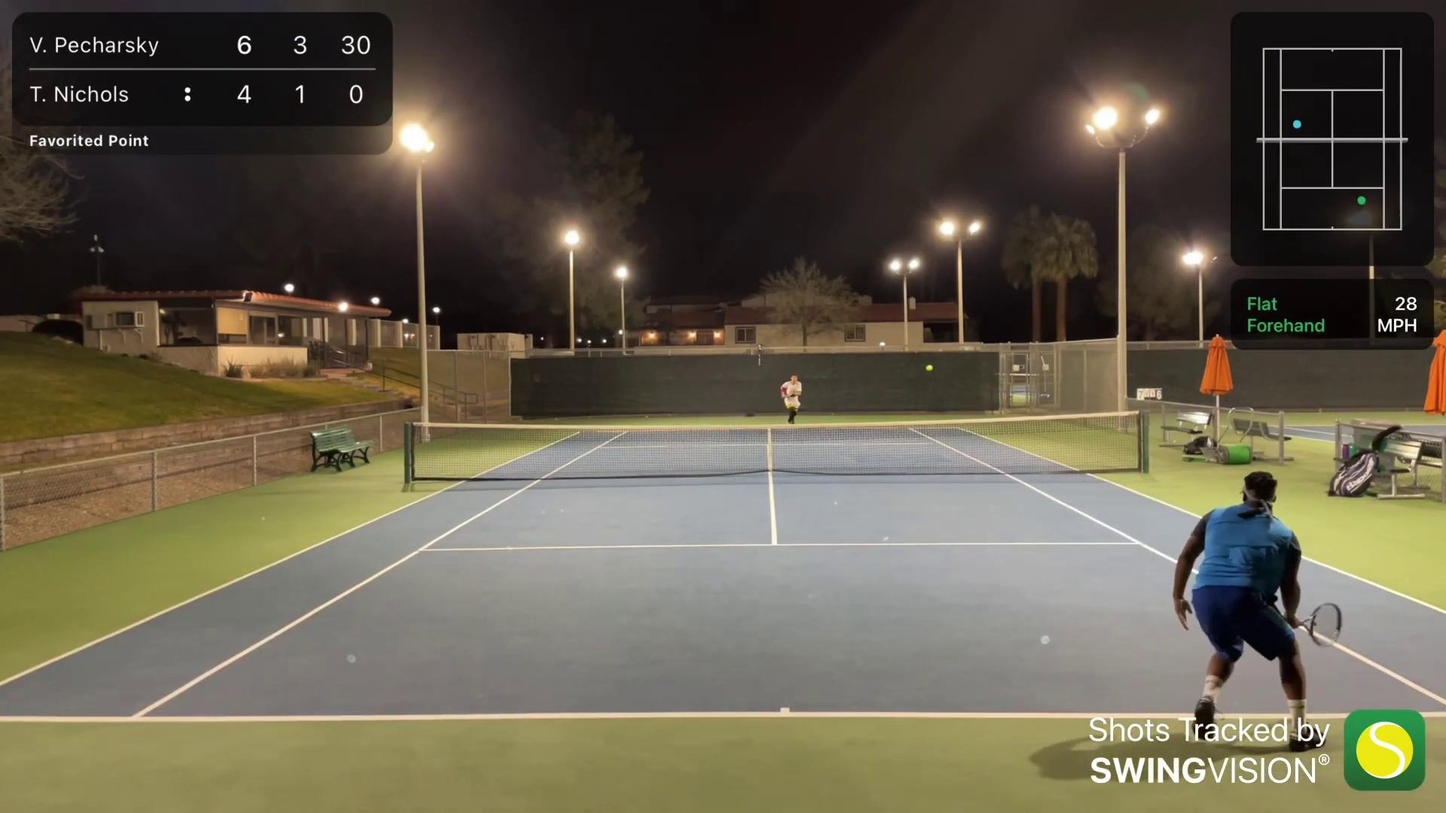ball: (924, 366, 930, 371)
